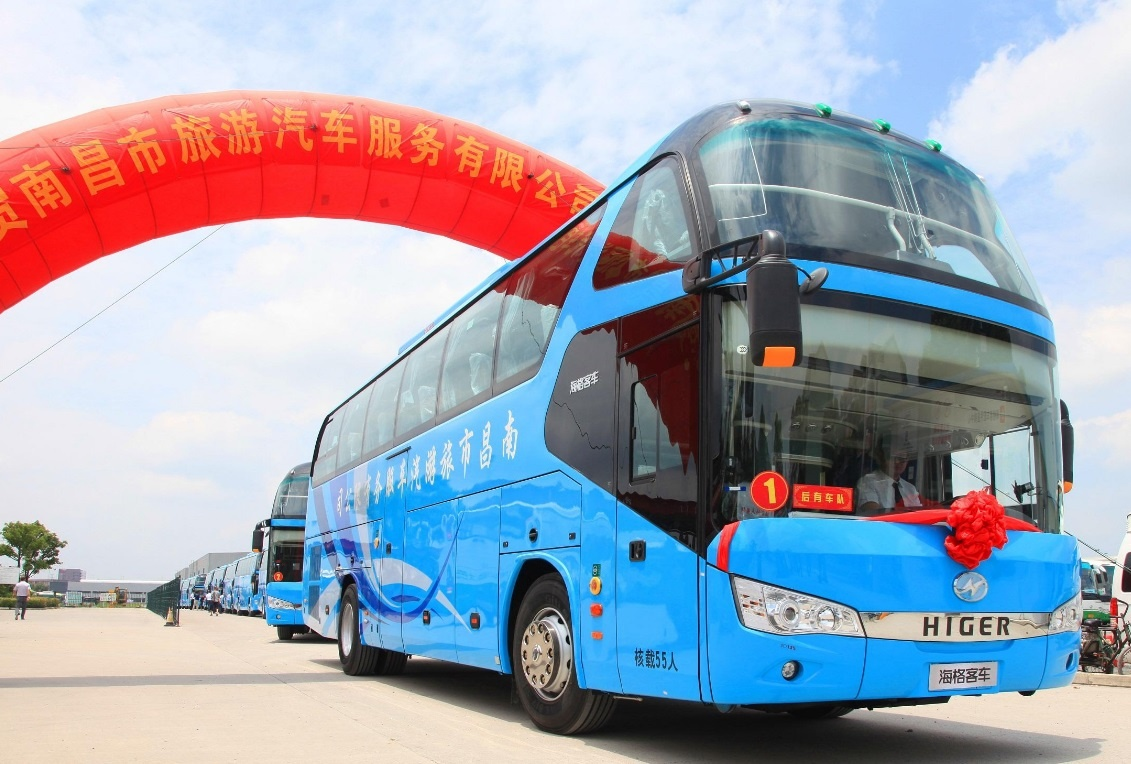bus: (306, 147, 1084, 735)
